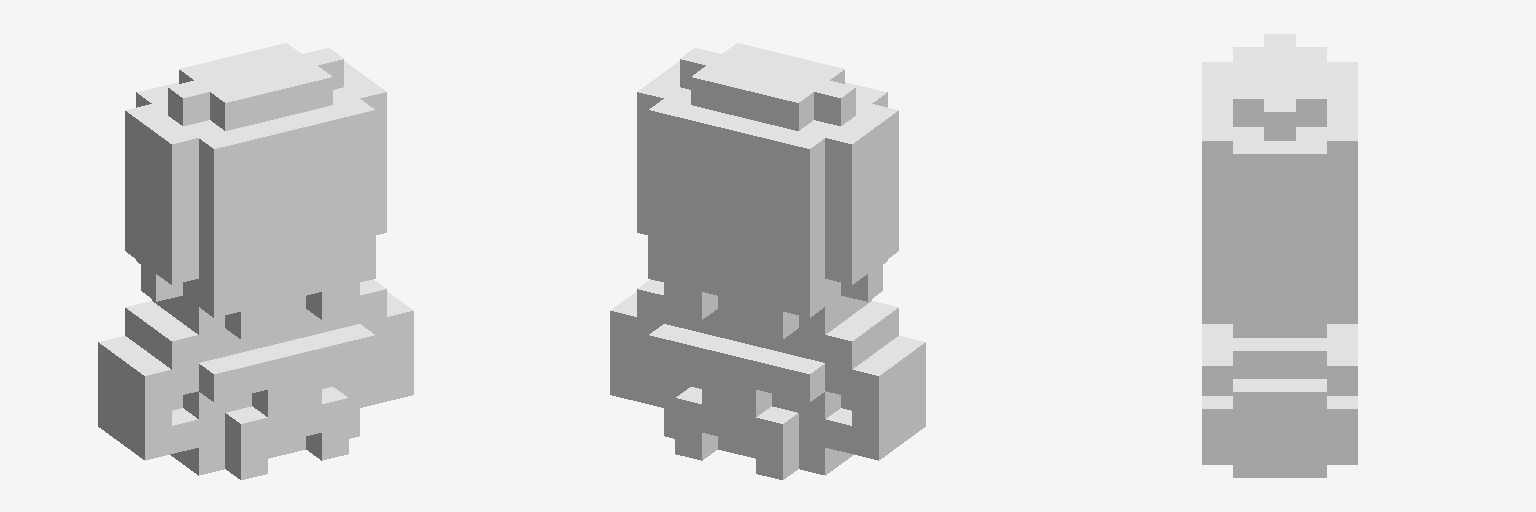
File: skele.obj
3 views of the same model, side by side, from view 1: azimuth 30°, elevation 25°; view 2: azimuth 150°, elevation 25°; view 3: azimuth 270°, elevation 25° (orthographic).
Visible parts, largest first — view 1: skele; view 2: skele; view 3: skele.
Part boxes in pixels (left/top/right/bottom): skele: left=98, top=43, right=413, bottom=479; skele: left=610, top=43, right=925, bottom=479; skele: left=1202, top=34, right=1357, bottom=477.
Size of the model in its own units: 10 by 13 by 5.